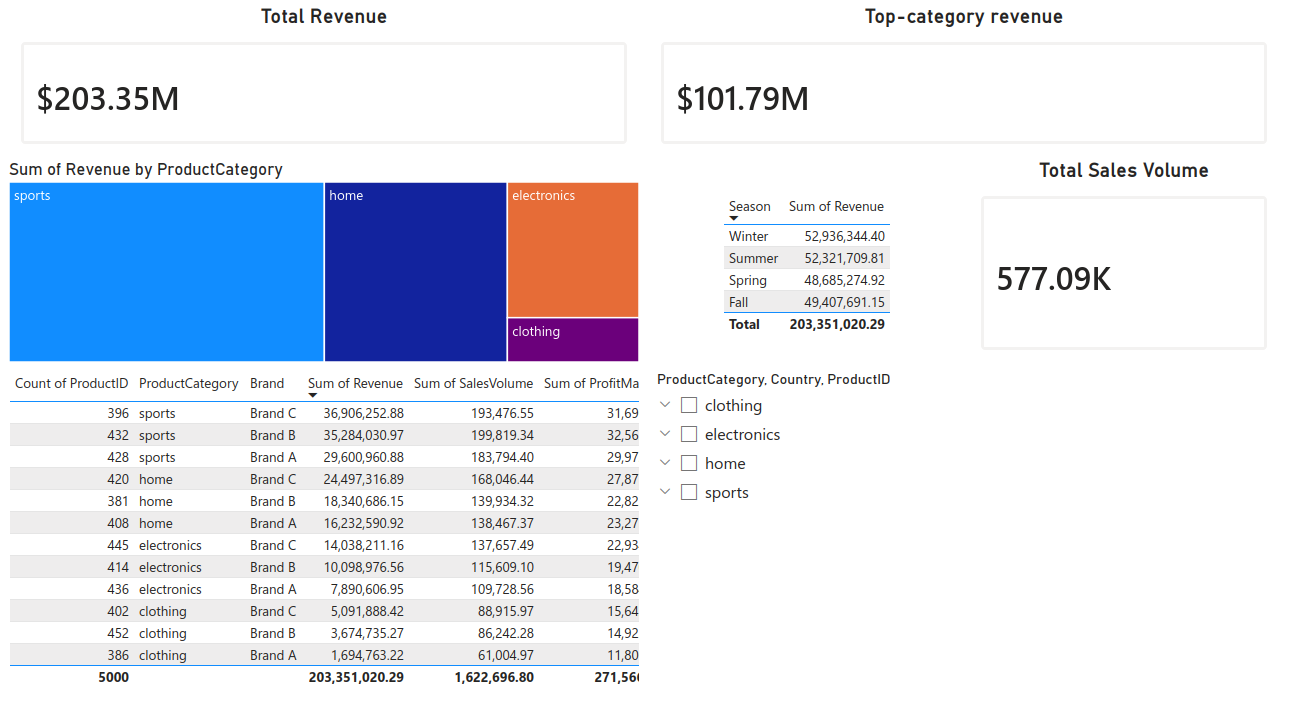

The dashboard page shown, as its layout file describes it:
{"tool":"powerbi","page":{"name":"Page 1","canvas":[1280,720],"ordinal":0},"visuals":[{"type":"cardVisual","title":"Total Revenue","fields":{"Data":["Sum(ecommerce_dataset.Revenue)"]},"box":[0,0,640.5,154],"z":0},{"type":"cardVisual","title":"Top-category revenue","fields":{"Data":["Sum(ecommerce_dataset.Revenue)"]},"box":[640.5,0,639.5,154],"z":1000},{"type":"tableEx","fields":{"Values":["CountNonNull(ecommerce_dataset.ProductID)","ecommerce_dataset.ProductCategory","ecommerce_dataset.Brand","Sum(ecommerce_dataset.Revenue)","Sum(ecommerce_dataset.SalesVolume)","Sum(ecommerce_dataset.ProfitMargin)"]},"box":[0,360.2,640.5,359.2],"z":2000},{"type":"slicer","fields":{"Values":["ecommerce_dataset.ProductCategory","ecommerce_dataset.Country","ecommerce_dataset.ProductID"]},"box":[640.5,360.2,639.5,359.2],"z":3000},{"type":"tableEx","fields":{"Values":["ecommerce_dataset.Season","Sum(ecommerce_dataset.Revenue)"]},"box":[713.5,182.6,184.5,149],"z":3001},{"type":"treemap","fields":{"Group":["ecommerce_dataset.ProductCategory"],"Values":["Sum(ecommerce_dataset.Revenue)"]},"box":[0,154,640.5,206.3],"z":3002},{"type":"cardVisual","title":"Total Sales Volume","fields":{"Data":["Sum(ecommerce_dataset.SalesVolume)"]},"box":[960.2,154,319.8,206.3],"z":3003}]}

Visuals, with their boxes in screenshot pixels (x1, y1, x2, y2), scaled from the page's 1280x720 canvas onto the 1300x711 screenshot:
"Total Revenue" cardVisual: 0:0:651:152
"Top-category revenue" cardVisual: 651:0:1299:152
tableEx - CountNonNull(ecommerce_dataset.ProductID) x ecommerce_dataset.ProductCategory: 0:356:651:710
slicer - ecommerce_dataset.ProductCategory x ecommerce_dataset.Country: 651:356:1299:710
tableEx - ecommerce_dataset.Season x Sum(ecommerce_dataset.Revenue): 725:180:912:327
treemap - ecommerce_dataset.ProductCategory x Sum(ecommerce_dataset.Revenue): 0:152:651:356
"Total Sales Volume" cardVisual: 975:152:1299:356
